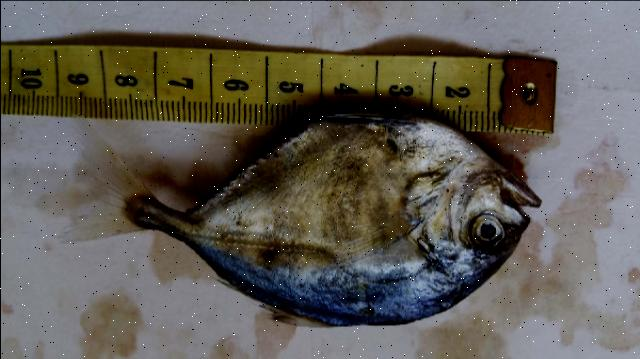Mulut: (486, 169, 550, 235)
Sirip Dada: (318, 174, 422, 268)
Sirip Ekor: (52, 109, 164, 267)
Sirip Perut: (311, 83, 411, 131)
Sirip Punggung: (206, 242, 362, 350)
